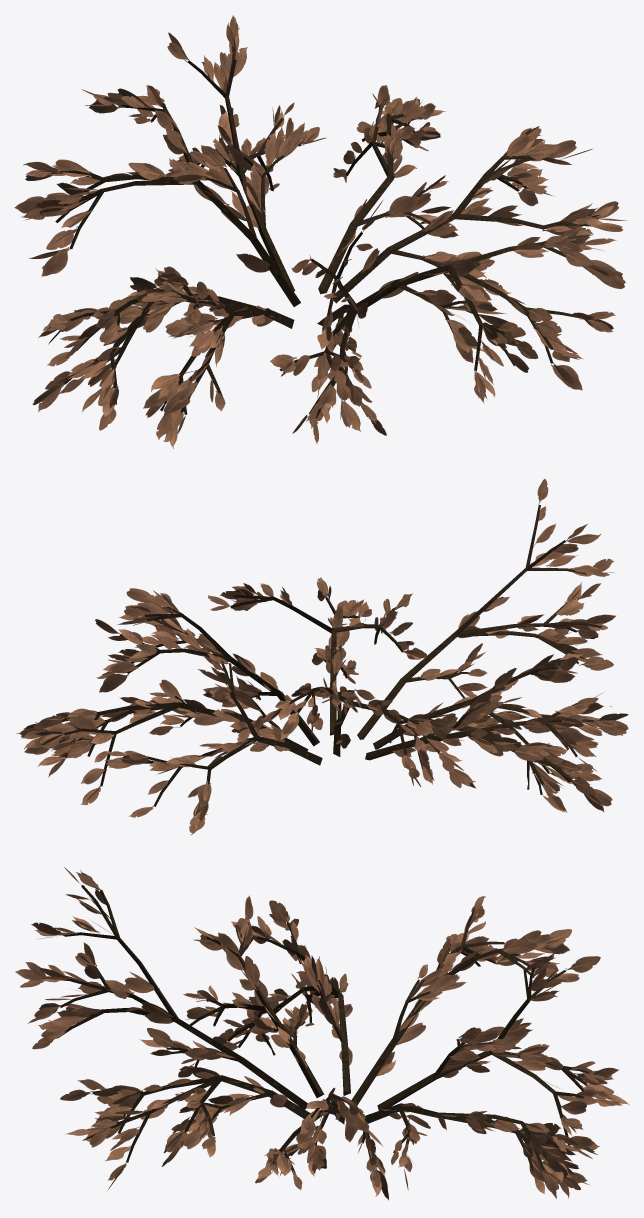
The model's file is salal_understory_v02_LOD1.glb.
The picture shows the model from 3 angles, top to bottom: view 1: azimuth 30°, elevation 25°; view 2: azimuth 150°, elevation 25°; view 3: azimuth 270°, elevation 25°; orthographic projection. The views are drawn at different scales.
Parts seen in each view (by area): view 1: salal_understory_v02_LOD1; view 2: salal_understory_v02_LOD1; view 3: salal_understory_v02_LOD1.
Boxes of the visible parts, <box> form: salal_understory_v02_LOD1: <box>14,15,627,448</box>; salal_understory_v02_LOD1: <box>16,479,628,835</box>; salal_understory_v02_LOD1: <box>15,867,629,1199</box>.
Size of the model in its own units: 2.19 by 0.9613 by 2.23.
2 materials, 2 textured.
